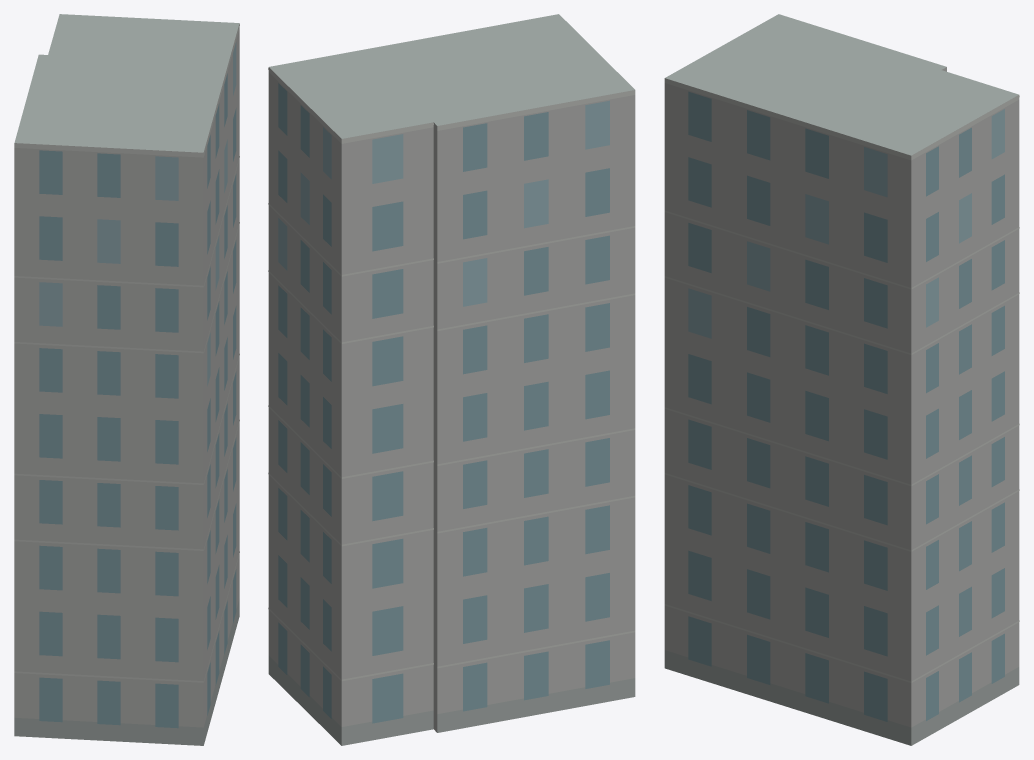
Rendered from survey-upis-32704571.glb.
The picture shows the model from 3 angles, left to right: view 1: azimuth 30°, elevation 25°; view 2: azimuth 150°, elevation 25°; view 3: azimuth 270°, elevation 25°; orthographic projection. The views are drawn at different scales.
Parts seen in each view (by area): view 1: survey-upis-32704571.tmp; view 2: survey-upis-32704571.tmp; view 3: survey-upis-32704571.tmp.
Part boxes in pixels (x1=…): survey-upis-32704571.tmp: x1=14, y1=14, x2=239, y2=745; survey-upis-32704571.tmp: x1=268, y1=14, x2=635, y2=745; survey-upis-32704571.tmp: x1=664, y1=14, x2=1019, y2=745.
Bounding box in the file's own units: 15.41 × 29.9 × 16.3.
